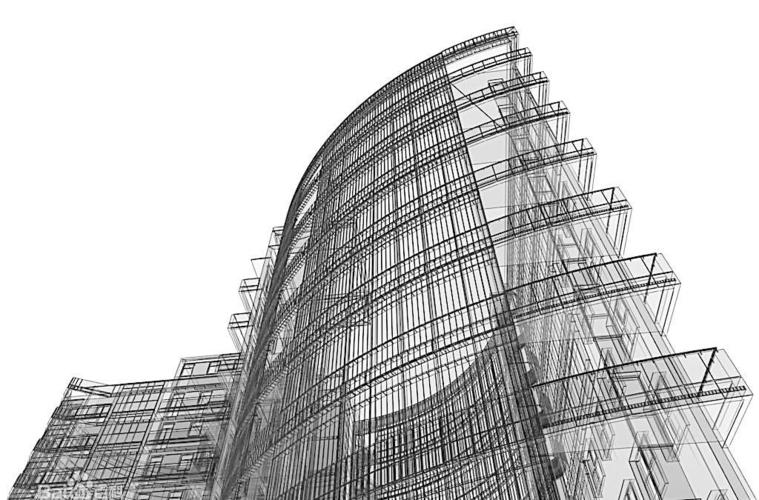buildings: (217, 66, 679, 500)
